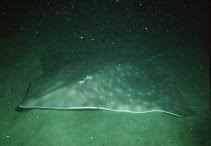Big Skate: (17, 13, 211, 143)
